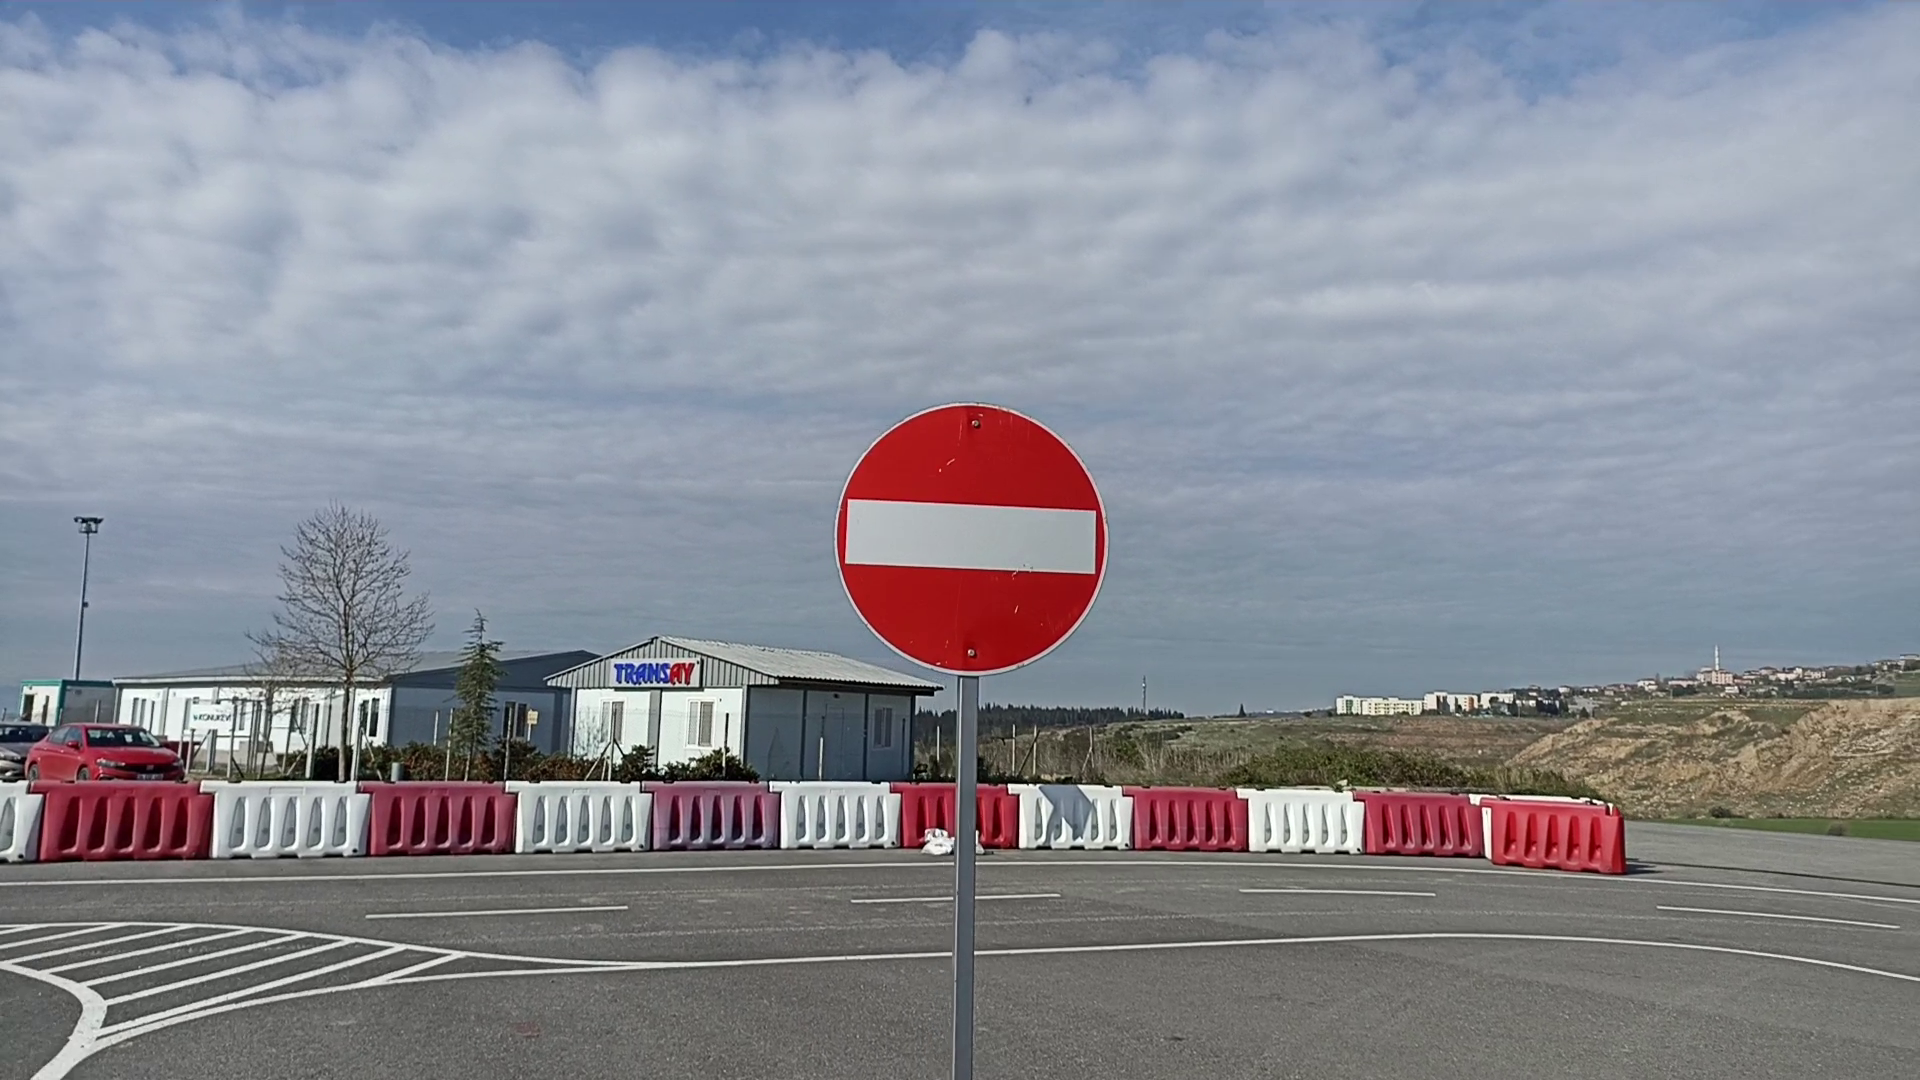noentryway: (829, 394, 1114, 679)
